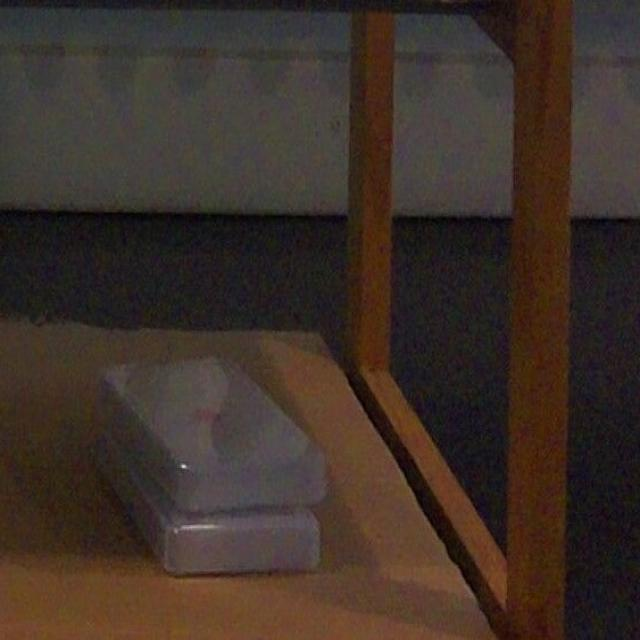Jasskarte: (103, 360, 325, 512), (99, 443, 319, 572)
